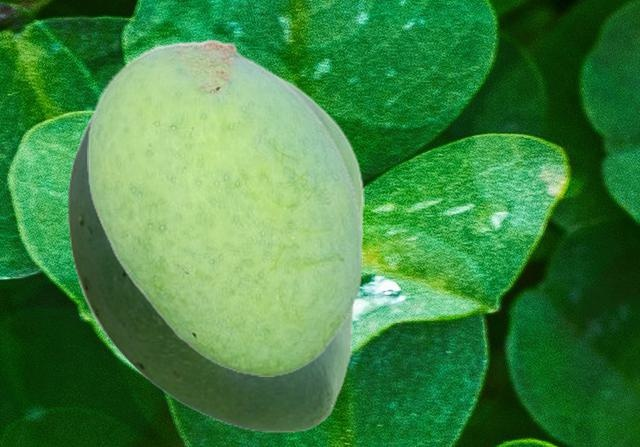green_mango: (67, 70, 363, 432), (87, 38, 361, 375)
